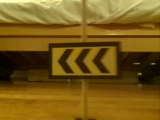left: (49, 44, 119, 78)
